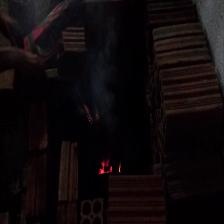fire: (92, 158, 127, 176)
